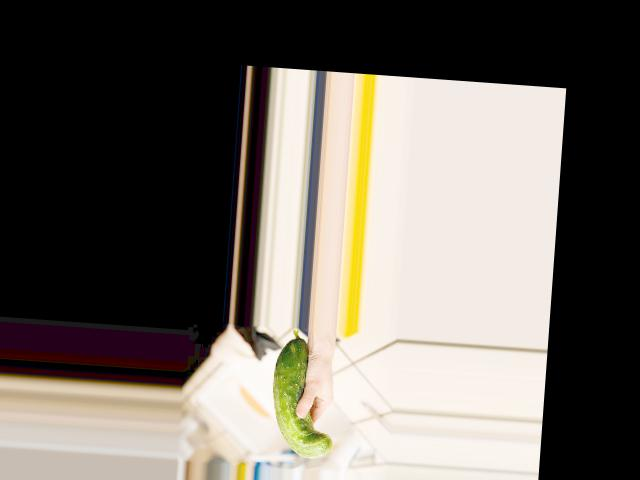cucumber: (267, 327, 339, 459)
